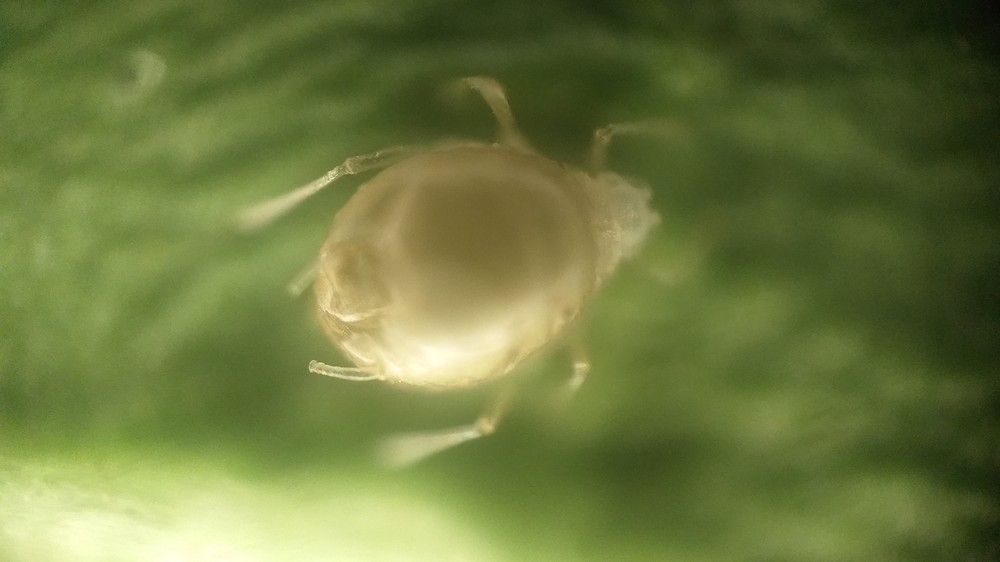Pulgon: (234, 73, 727, 507)
